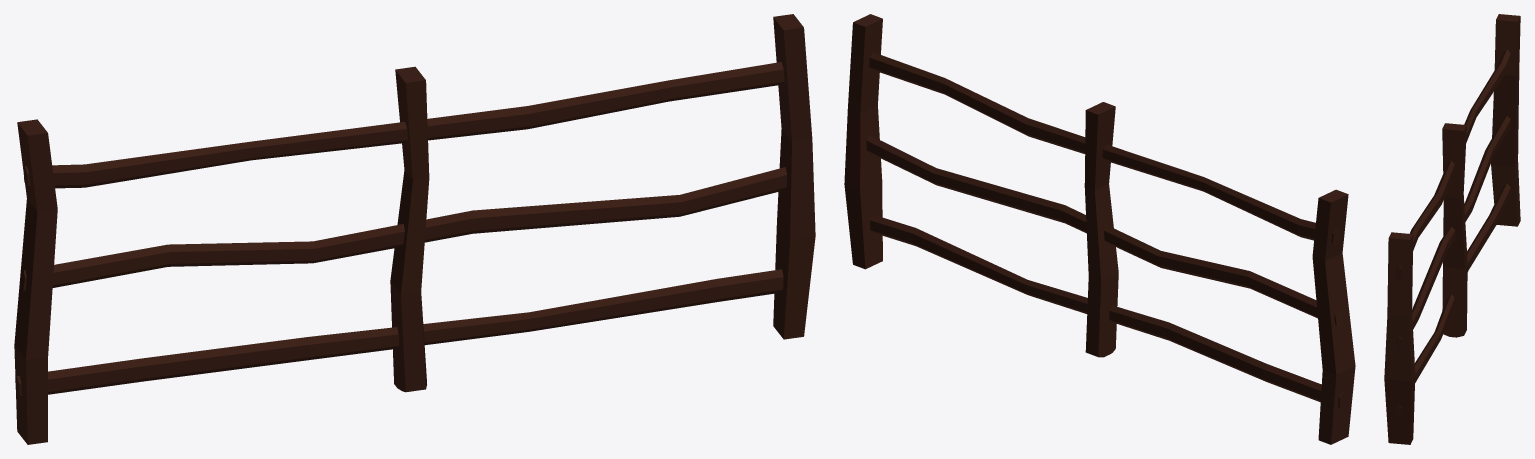
Rendered from valla.fbx.
3 views of the same model, side by side, from view 1: azimuth 30°, elevation 25°; view 2: azimuth 150°, elevation 25°; view 3: azimuth 270°, elevation 25° (orthographic). The views are drawn at different scales.
Parts seen in each view (by area): view 1: long fence v:199 f:175; view 2: long fence v:199 f:175; view 3: long fence v:199 f:175.
Part boxes in pixels (<box>): long fence v:199 f:175: <box>14,14,815,444</box>; long fence v:199 f:175: <box>844,14,1355,444</box>; long fence v:199 f:175: <box>1384,14,1520,444</box>.
Size of the model in its own units: 801 by 335 by 200.
